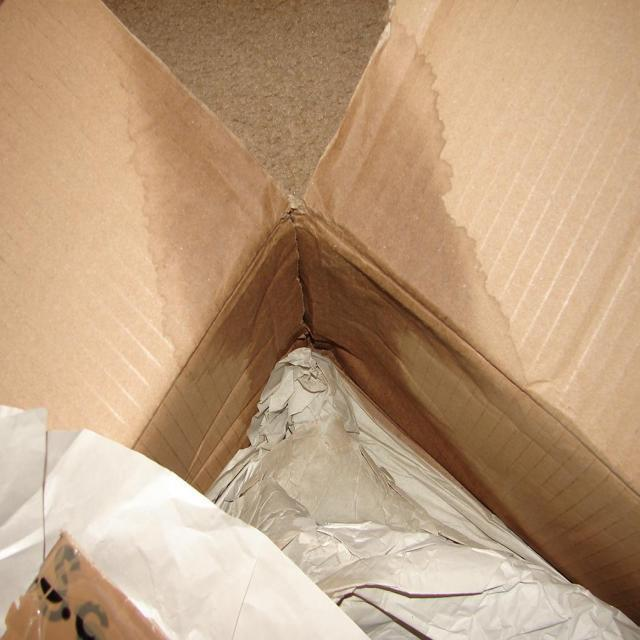wet: (130, 28, 503, 419)
